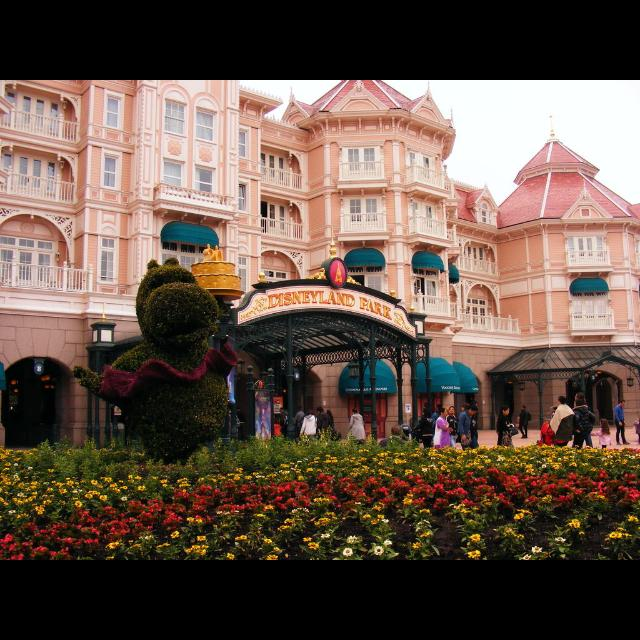Flower: (1, 445, 640, 559), (296, 428, 378, 446), (342, 546, 352, 556)
